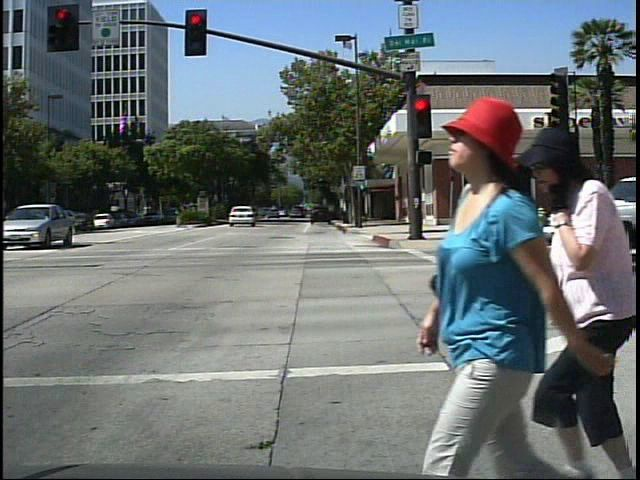person: (429, 71, 619, 480), (529, 118, 633, 479)
